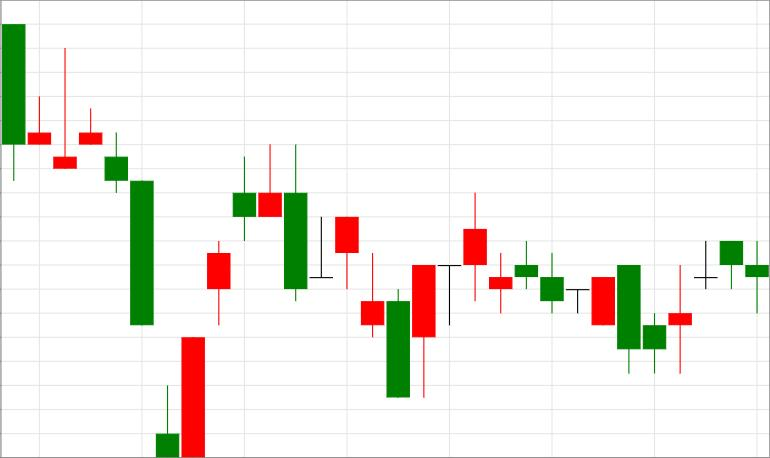bullish_engulfing_rise: (80, 107, 205, 458)
